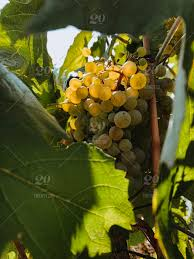grapes: (59, 50, 165, 194)
